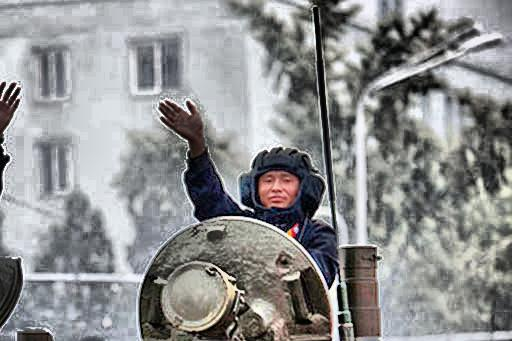tanks: (139, 217, 337, 341), (345, 249, 382, 341), (17, 329, 54, 341)
